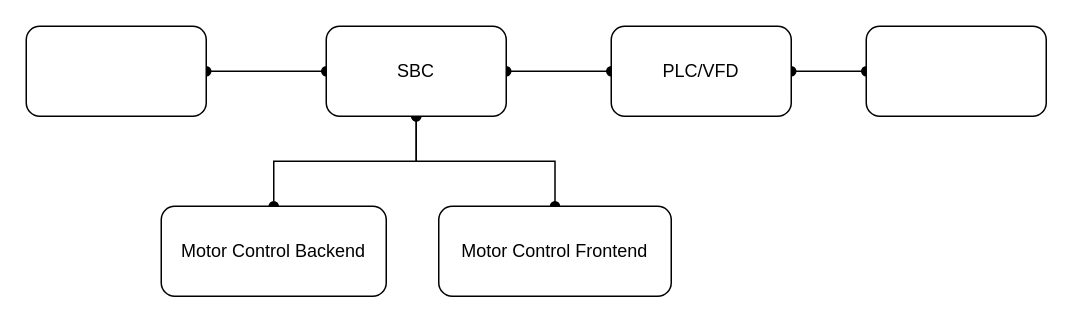
The diagram is 1073 pixels wide and 323 high, and some of its shapes have lost their labels. The centre of each missing label's shape, as x and y in pixels:
Motor/s: point (955, 70)
WFR: point (115, 70)
